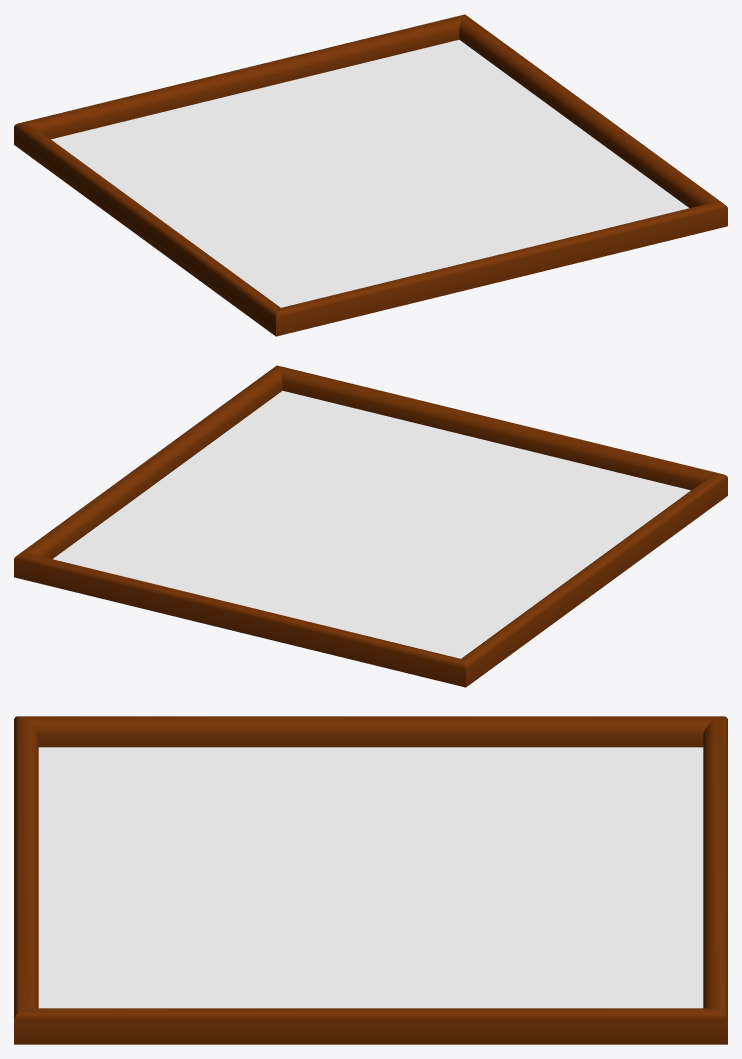
The model's file is tableau-liège.glb.
The picture shows the model from 3 angles, top to bottom: view 1: azimuth 30°, elevation 25°; view 2: azimuth 150°, elevation 25°; view 3: azimuth 270°, elevation 25°; orthographic projection. The views are drawn at different scales.
Visible parts, largest first — view 1: Cube; view 2: Cube; view 3: Cube.
Part boxes in pixels (x1,y1,x2,y2): Cube: (14,14,727,336); Cube: (14,365,727,687); Cube: (14,716,727,1044).
Bounding box in the file's own units: 1.3 × 0.0614 × 1.3.
